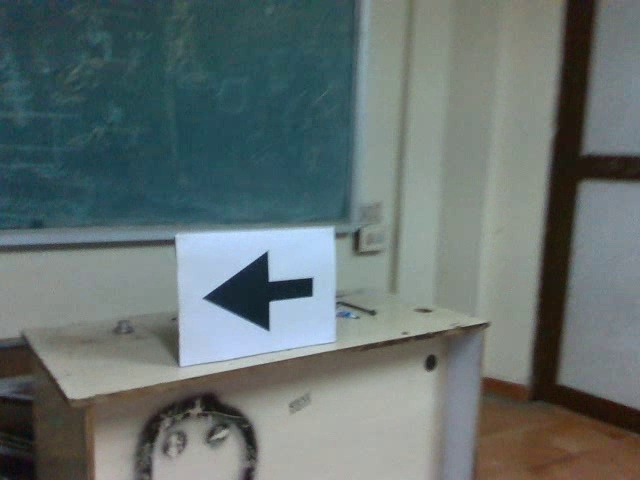Left: (195, 242, 321, 341)
